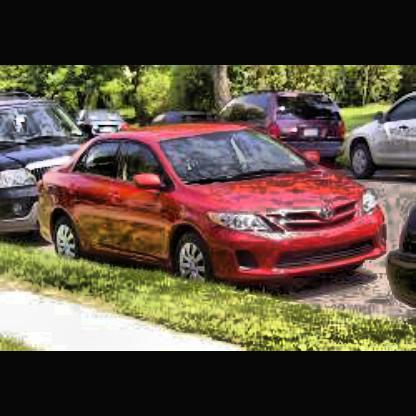Toyota Corolla Sedan 2012: (33, 127, 392, 288)
